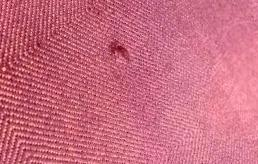knot: (105, 39, 138, 74)
